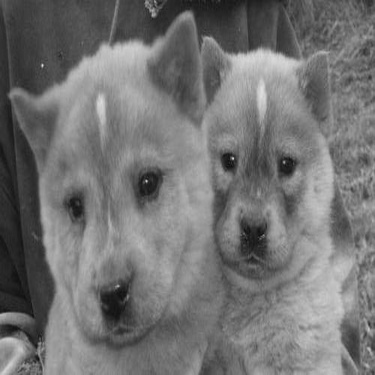dog: (7, 10, 230, 371), (184, 25, 367, 373)
